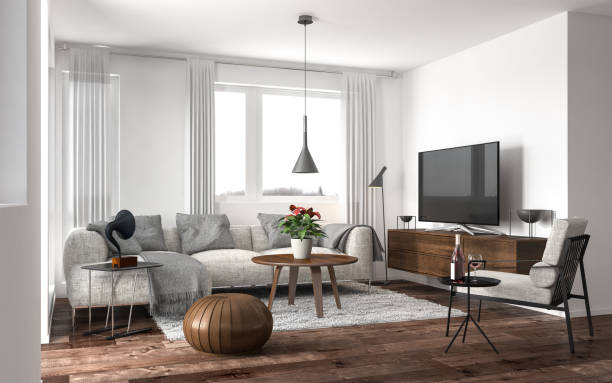TV: (416, 139, 503, 235)
TV stand: (384, 227, 548, 276)
chair: (457, 215, 596, 353)
floor lamp: (364, 164, 396, 290)
flower vase: (274, 204, 327, 263)
sofa: (58, 210, 377, 333)
table: (250, 251, 359, 319), (79, 260, 164, 340), (438, 273, 500, 354)
